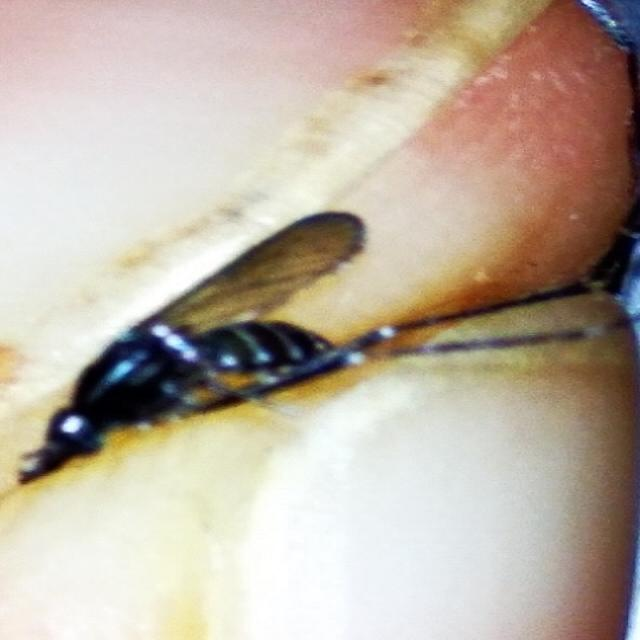albopictus: (33, 208, 640, 476)
